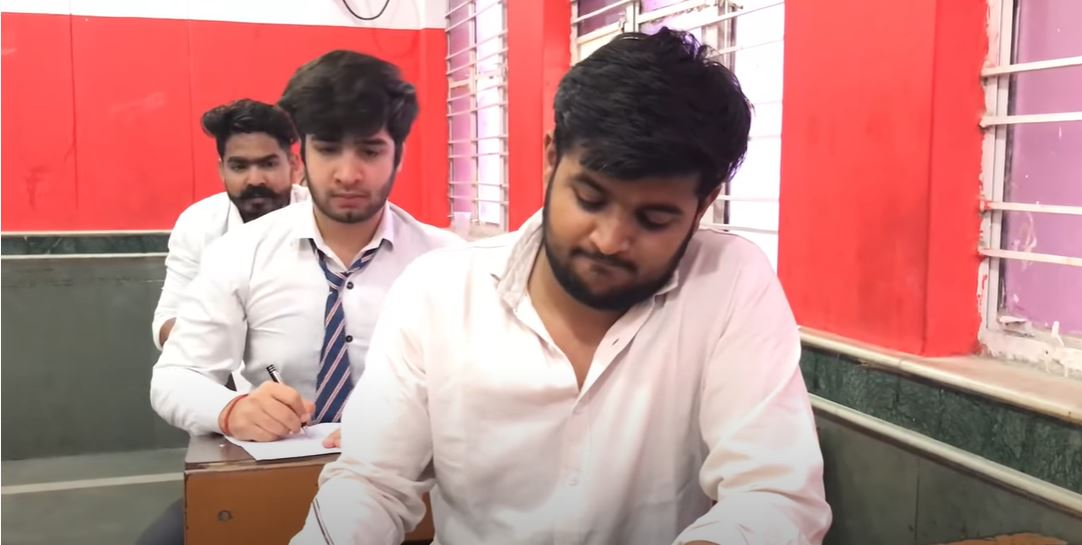student: (504, 85, 761, 545)
studentcopying: (263, 62, 475, 351), (172, 98, 327, 244)
